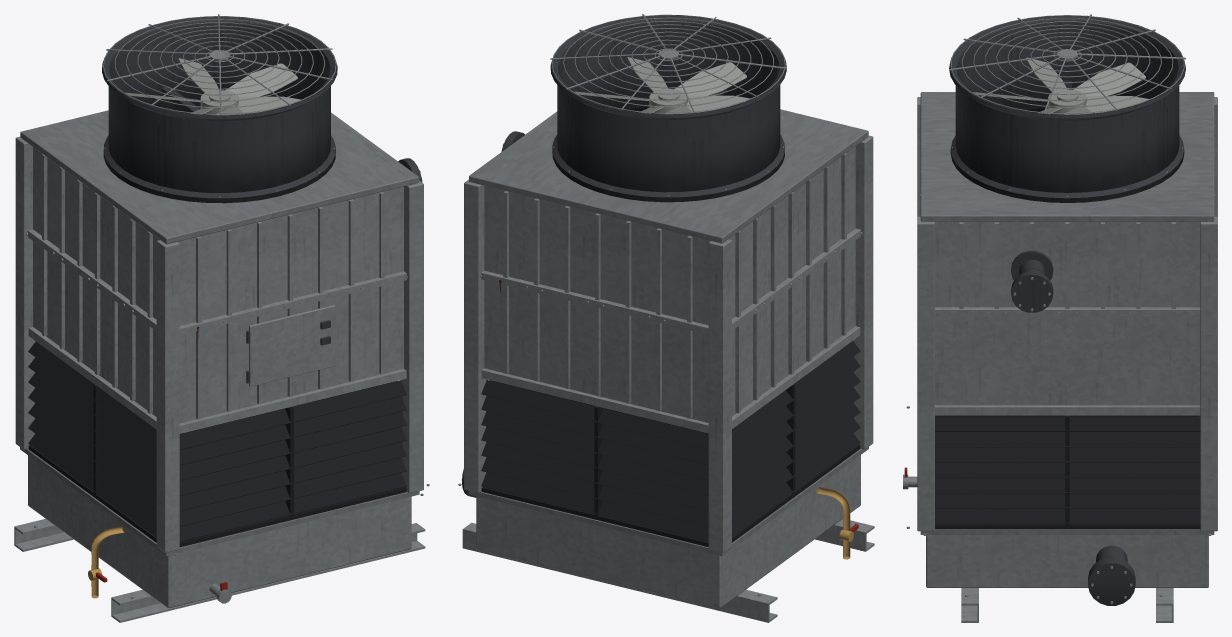
File: cooling_tower.glb
3 renders of one model, left to right at view 1: azimuth 30°, elevation 25°; view 2: azimuth 150°, elevation 25°; view 3: azimuth 270°, elevation 25°, orthographic.
Parts seen in each view (by area): view 1: casing_steel_galvanised_0, fan_stack_powder_coat_graphite_0, basin_steel_galvanised_0, casing_steel_galvanised_wet_1, guard_steel_galvanised_0, access_door_steel_galvanised_0, fan_plastic_radome_0, louvre_f_plastic_dark_6, base_steel_galvanised_0, louvre_f_plastic_dark_4, louvre_f_plastic_dark_0, louvre_f_plastic_dark_2 (+16 smaller); view 2: casing_steel_galvanised_0, fan_stack_powder_coat_graphite_0, basin_steel_galvanised_0, casing_steel_galvanised_wet_1, guard_steel_galvanised_0, fan_plastic_radome_0, louvre_b_plastic_dark_6, louvre_b_plastic_dark_0, louvre_b_plastic_dark_3, louvre_b_plastic_dark_4, louvre_b_plastic_dark_1, louvre_b_plastic_dark_5 (+15 smaller); view 3: casing_steel_galvanised_0, fan_stack_powder_coat_graphite_0, casing_steel_galvanised_wet_1, basin_steel_galvanised_0, guard_steel_galvanised_0, pipes_powder_coat_graphite_0, louvre_r_plastic_dark_1, louvre_r_plastic_dark_4, louvre_r_plastic_dark_6, louvre_r_plastic_dark_2, louvre_r_plastic_dark_0, louvre_r_plastic_dark_3 (+7 smaller).
Part boxes in pixels (left/top/right/bottom): casing_steel_galvanised_0: left=15, top=136, right=423, bottom=552; fan_stack_powder_coat_graphite_0: left=102, top=17, right=337, bottom=203; basin_steel_galvanised_0: left=28, top=455, right=411, bottom=608; casing_steel_galvanised_wet_1: left=20, top=110, right=419, bottom=244; guard_steel_galvanised_0: left=103, top=14, right=336, bottom=115; access_door_steel_galvanised_0: left=249, top=305, right=335, bottom=386; fan_plastic_radome_0: left=125, top=58, right=300, bottom=115; louvre_f_plastic_dark_6: left=179, top=380, right=406, bottom=449; base_steel_galvanised_0: left=14, top=518, right=425, bottom=622; louvre_f_plastic_dark_4: left=179, top=411, right=406, bottom=480; louvre_f_plastic_dark_0: left=179, top=472, right=406, bottom=541; louvre_f_plastic_dark_2: left=179, top=442, right=406, bottom=511; casing_steel_galvanised_0: left=464, top=135, right=873, bottom=552; fan_stack_powder_coat_graphite_0: left=550, top=15, right=786, bottom=202; basin_steel_galvanised_0: left=476, top=455, right=860, bottom=608; casing_steel_galvanised_wet_1: left=469, top=109, right=868, bottom=243; guard_steel_galvanised_0: left=550, top=14, right=786, bottom=113; fan_plastic_radome_0: left=574, top=57, right=749, bottom=114; louvre_b_plastic_dark_6: left=481, top=380, right=708, bottom=449; louvre_b_plastic_dark_0: left=481, top=472, right=708, bottom=541; louvre_b_plastic_dark_3: left=481, top=426, right=708, bottom=495; louvre_b_plastic_dark_4: left=481, top=411, right=708, bottom=480; louvre_b_plastic_dark_1: left=481, top=457, right=708, bottom=526; louvre_b_plastic_dark_5: left=481, top=395, right=708, bottom=464; casing_steel_galvanised_0: left=917, top=97, right=1217, bottom=531; fan_stack_powder_coat_graphite_0: left=949, top=16, right=1185, bottom=202; casing_steel_galvanised_wet_1: left=920, top=92, right=1214, bottom=221; basin_steel_galvanised_0: left=926, top=535, right=1208, bottom=587; guard_steel_galvanised_0: left=949, top=14, right=1185, bottom=114; pipes_powder_coat_graphite_0: left=1011, top=250, right=1135, bottom=605; louvre_r_plastic_dark_1: left=935, top=493, right=1200, bottom=508; louvre_r_plastic_dark_4: left=935, top=447, right=1200, bottom=462; louvre_r_plastic_dark_6: left=935, top=416, right=1200, bottom=431; louvre_r_plastic_dark_2: left=935, top=478, right=1200, bottom=493; louvre_r_plastic_dark_0: left=935, top=508, right=1200, bottom=523; louvre_r_plastic_dark_3: left=935, top=462, right=1200, bottom=477.
Size of what is drawn, in the model's own units: 2.18 by 3.08 by 1.78.
Materials: 9 (8 with a texture image).
